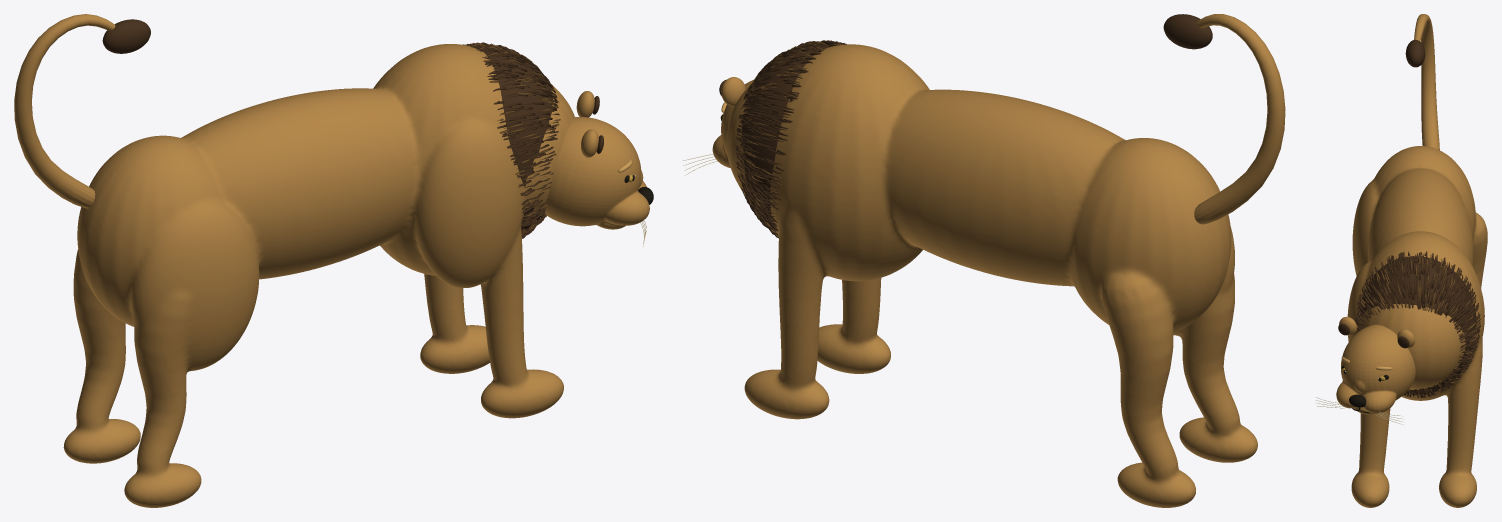
File: lion.glb
3 views of the same model, side by side, from view 1: azimuth 30°, elevation 25°; view 2: azimuth 150°, elevation 25°; view 3: azimuth 270°, elevation 25° (orthographic). The views are drawn at different scales.
Parts seen in each view (by area): view 1: Lion detailed mesh; view 2: Lion detailed mesh; view 3: Lion detailed mesh.
Boxes of the visible parts, x1=… form: Lion detailed mesh: x1=14, y1=14, x2=653, y2=507; Lion detailed mesh: x1=683, y1=14, x2=1285, y2=507; Lion detailed mesh: x1=1316, y1=14, x2=1487, y2=507.
Size of the model in its own units: 1.97 by 1.46 by 0.6735.
